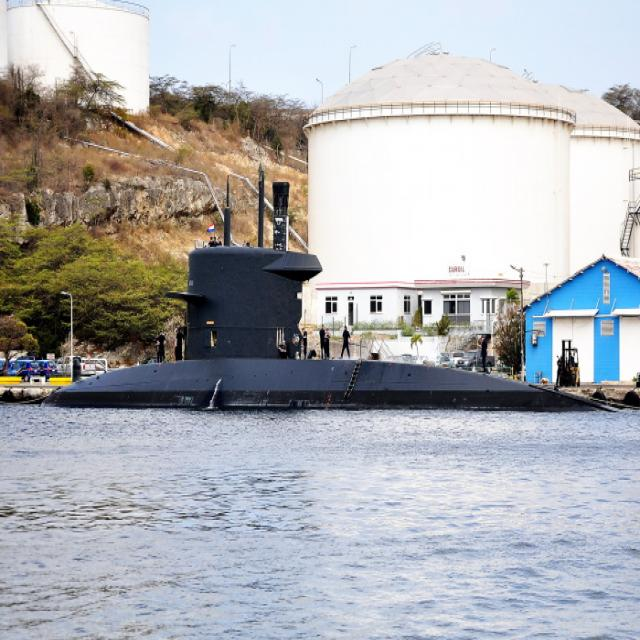submarine: (41, 162, 635, 404)
